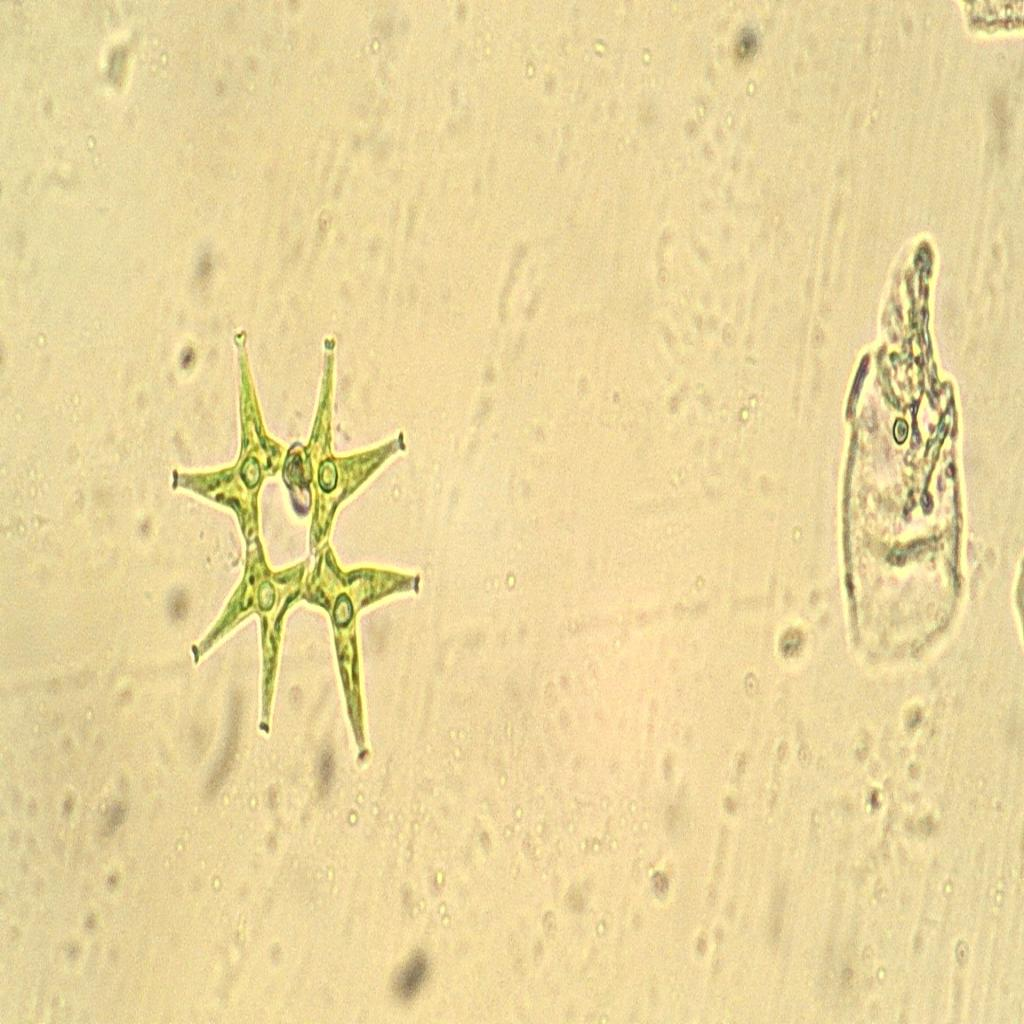Pediastrum_CT: (152, 292, 428, 785)
